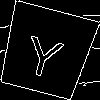Y: (21, 26, 68, 80)
